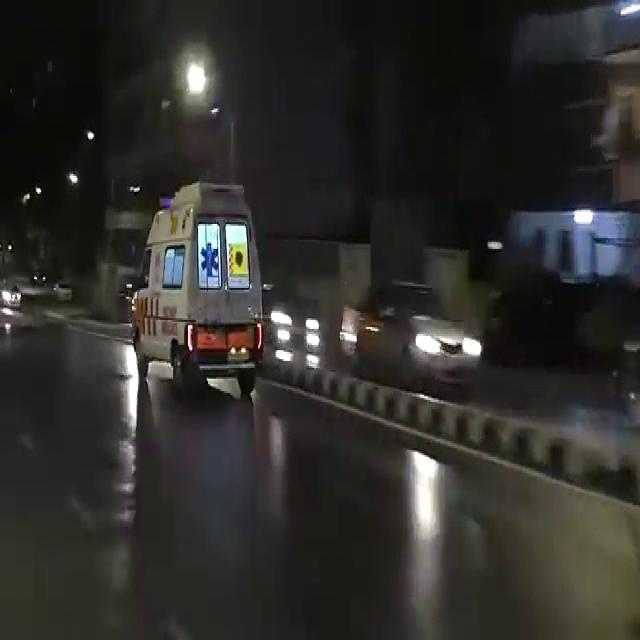ambulance: (138, 188, 271, 400)
